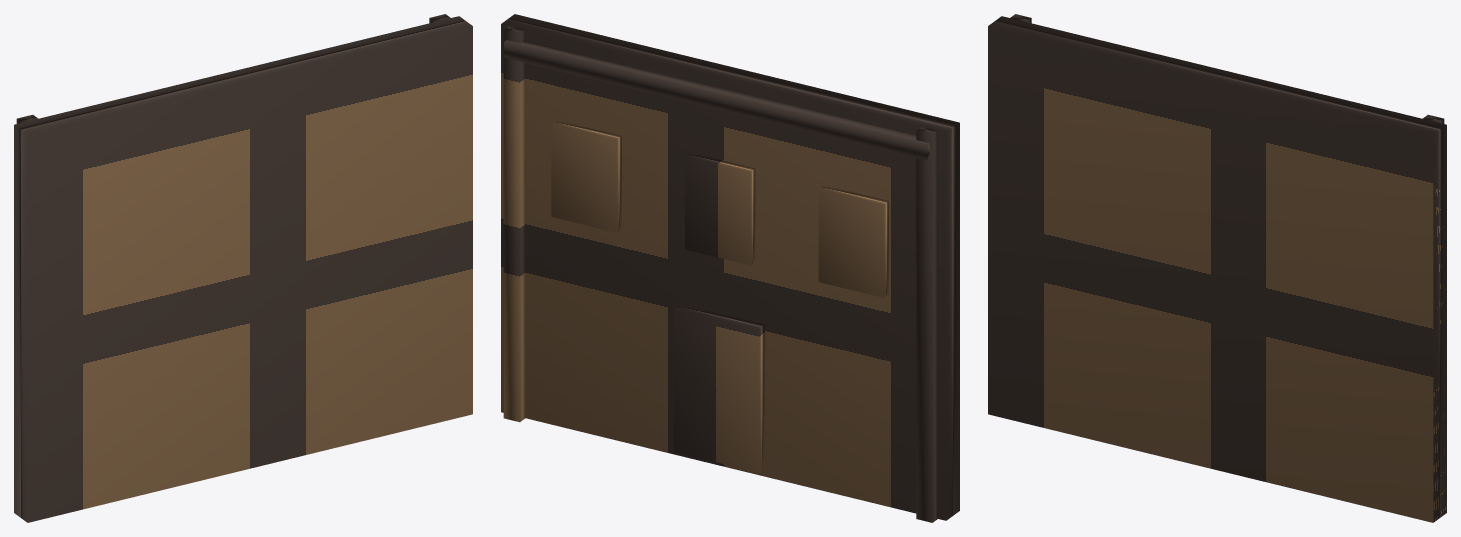
The model's file is SM_Env_CairoFacade_A_LOD1.obj.
3 renders of one model, left to right at view 1: azimuth 30°, elevation 25°; view 2: azimuth 150°, elevation 25°; view 3: azimuth 330°, elevation 25°, orthographic.
Visible parts, largest first — view 1: SM_Env_CairoFacade_A_LOD1; view 2: SM_Env_CairoFacade_A_LOD1; view 3: SM_Env_CairoFacade_A_LOD1.
Boxes of the visible parts, x1,y1,x2,y2 form: SM_Env_CairoFacade_A_LOD1: [14, 14, 472, 522]; SM_Env_CairoFacade_A_LOD1: [501, 14, 959, 522]; SM_Env_CairoFacade_A_LOD1: [988, 14, 1446, 522].
Bounding box in the file's own units: 6 × 5 × 0.51.
Materials: 1 (1 with a texture image).
